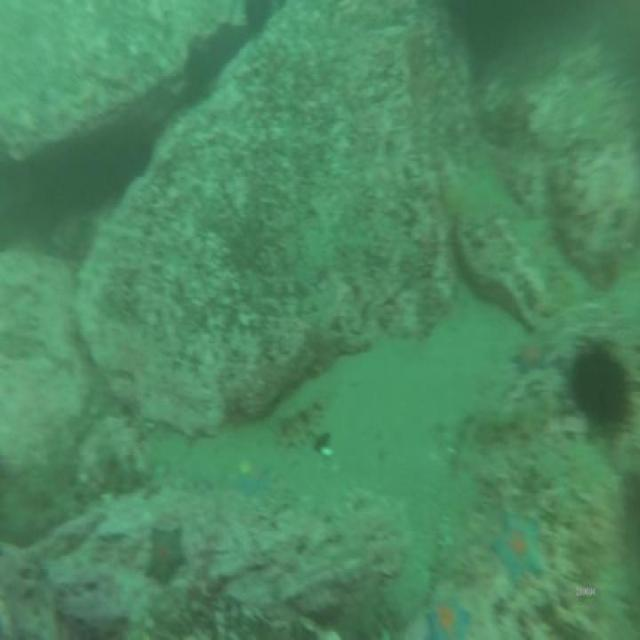echinus: (566, 335, 634, 444)
starfish: (491, 504, 549, 588), (144, 523, 189, 591), (425, 586, 475, 640), (229, 456, 274, 506), (510, 335, 556, 379)
